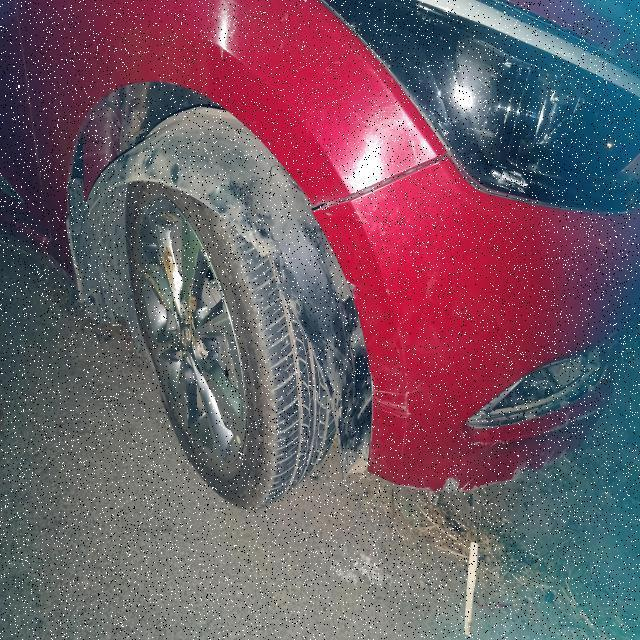front-bumper-dent: (318, 183, 639, 487)
